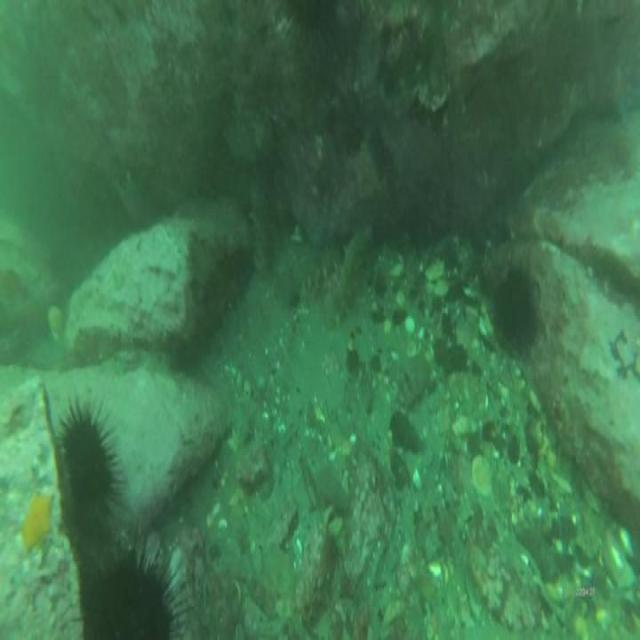echinus: (100, 561, 172, 640), (62, 420, 113, 509), (494, 265, 536, 335)
holothurian: (327, 226, 372, 322), (281, 248, 342, 296), (250, 178, 274, 272)
starfish: (23, 495, 52, 548)
